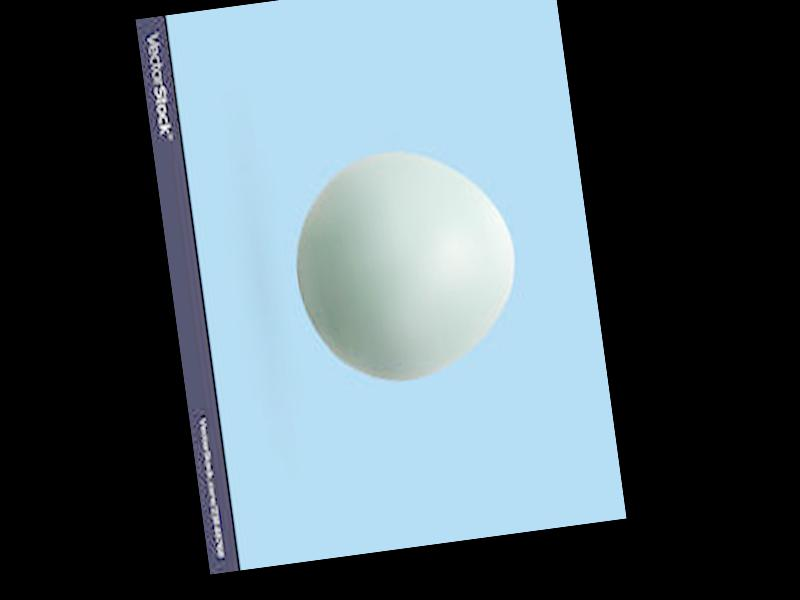Eggs: (284, 138, 529, 395)
